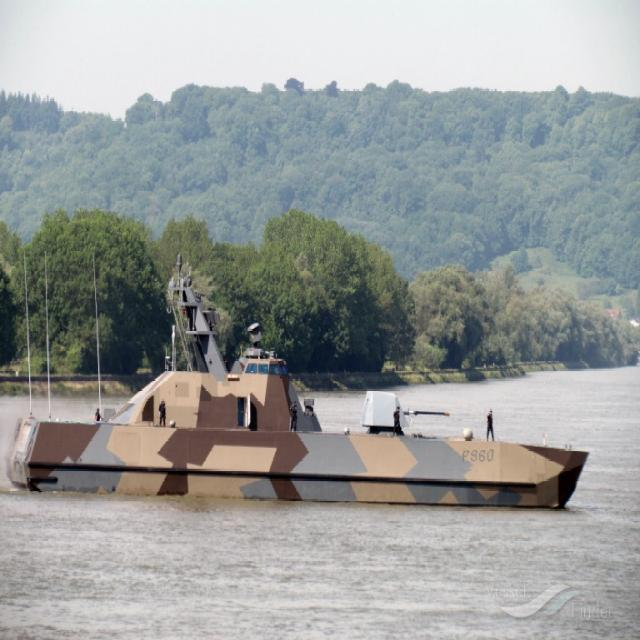OCR: (456, 448, 500, 470)
